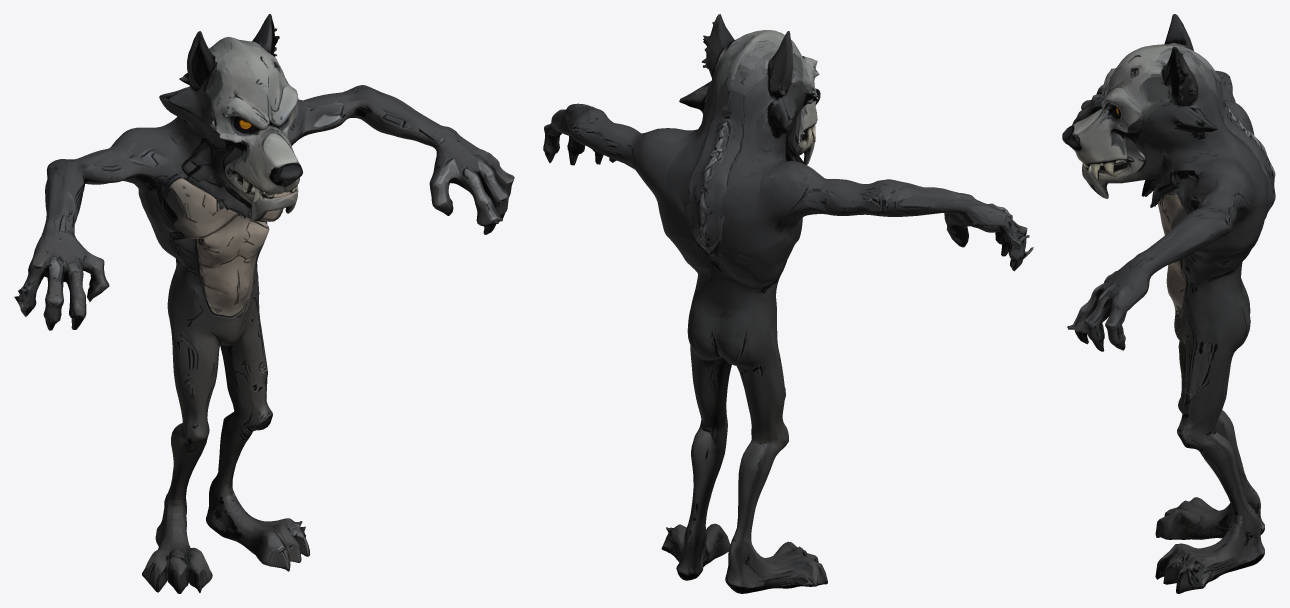
The model's file is the_dog_park_matriarch.glb.
3 renders of one model, left to right at view 1: azimuth 30°, elevation 25°; view 2: azimuth 150°, elevation 25°; view 3: azimuth 270°, elevation 25°, orthographic. The views are drawn at different scales.
Parts seen in each view (by area): view 1: tripo_node_9fa2618f-093d-48b6-8b53-c183c316f826; view 2: tripo_node_9fa2618f-093d-48b6-8b53-c183c316f826; view 3: tripo_node_9fa2618f-093d-48b6-8b53-c183c316f826.
Boxes of the visible parts, left/top/right/bottom form: tripo_node_9fa2618f-093d-48b6-8b53-c183c316f826: left=14, top=14, right=514, bottom=593; tripo_node_9fa2618f-093d-48b6-8b53-c183c316f826: left=543, top=14, right=1033, bottom=593; tripo_node_9fa2618f-093d-48b6-8b53-c183c316f826: left=1062, top=14, right=1275, bottom=593.
Bounding box in the file's own units: 0.9197 × 0.9794 × 0.358.
Materials: 1 (1 with a texture image).
